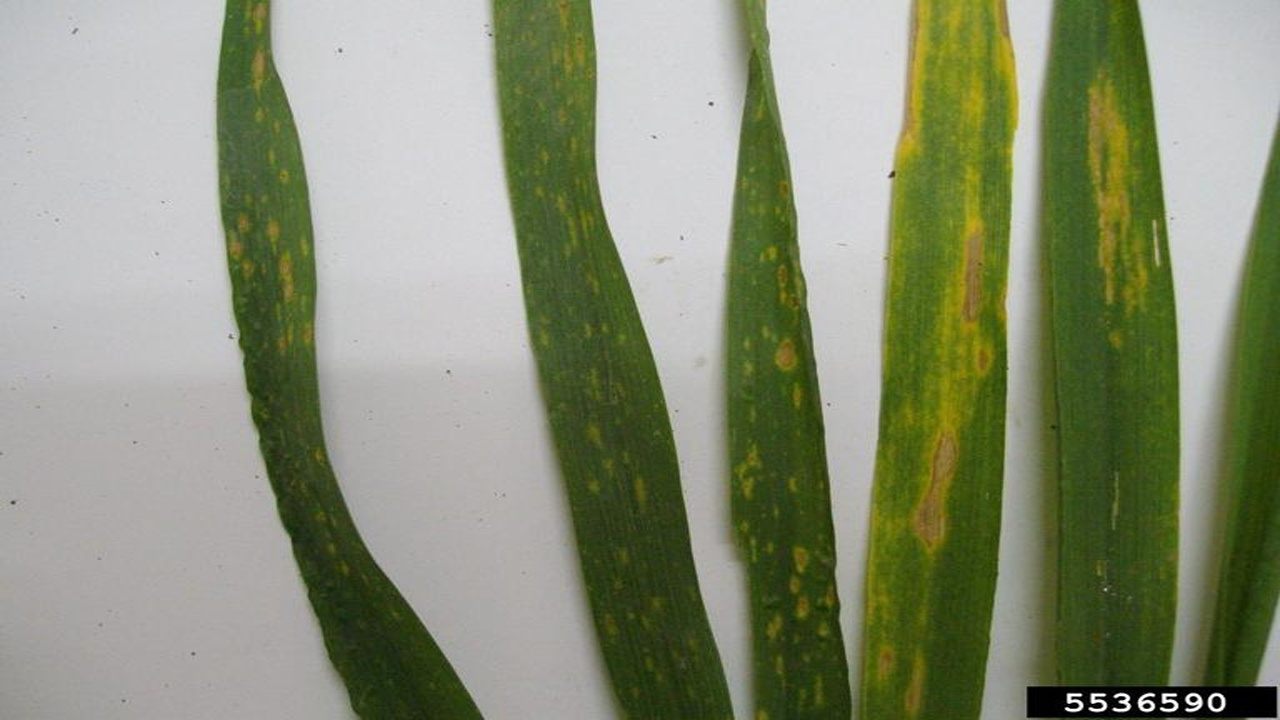tan_spot: (213, 2, 486, 720), (494, 2, 733, 715), (863, 1, 1020, 718), (1043, 1, 1174, 682), (733, 7, 851, 718)
